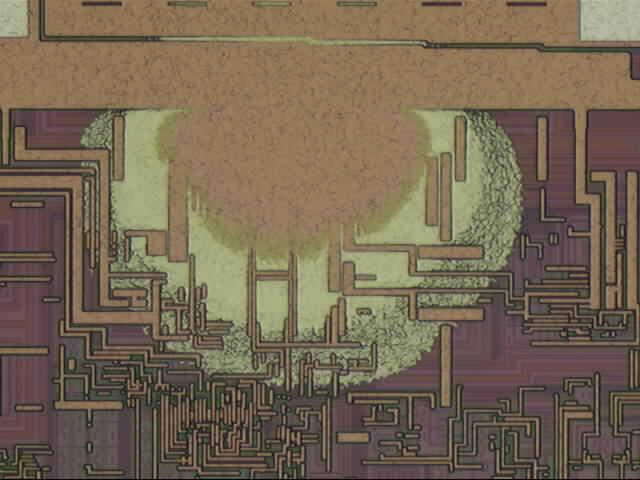BLOCK ETCH: (76, 1, 527, 392)
